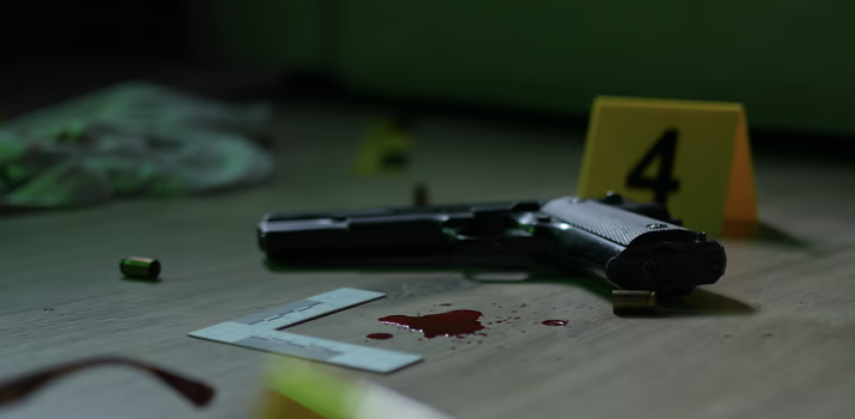blood_35.png: (345, 291, 600, 358)
